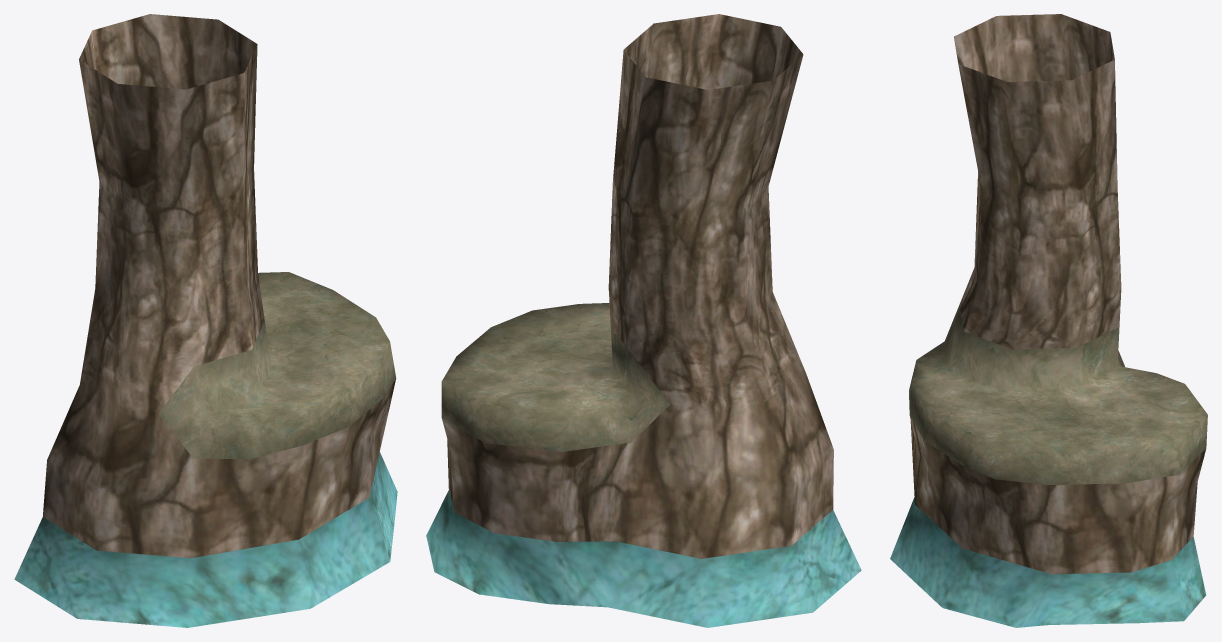
File: EKH_CAVERNS_PS_CA_PLAT_4894873__GX.fbx
The picture shows the model from 3 angles, left to right: view 1: azimuth 30°, elevation 25°; view 2: azimuth 150°, elevation 25°; view 3: azimuth 270°, elevation 25°; orthographic projection. The views are drawn at different scales.
Visible parts, largest first — view 1: EKH_CAVERNS_PS_CA_PLAT_4894873__GX; view 2: EKH_CAVERNS_PS_CA_PLAT_4894873__GX; view 3: EKH_CAVERNS_PS_CA_PLAT_4894873__GX.
Boxes of the visible parts, left/top/right/bottom form: EKH_CAVERNS_PS_CA_PLAT_4894873__GX: left=14, top=14, right=397, bottom=627; EKH_CAVERNS_PS_CA_PLAT_4894873__GX: left=426, top=14, right=861, bottom=627; EKH_CAVERNS_PS_CA_PLAT_4894873__GX: left=890, top=14, right=1207, bottom=627.
Bounding box in the file's own units: 73421 × 99480 × 59560.
Materials: 3 (3 with a texture image).
